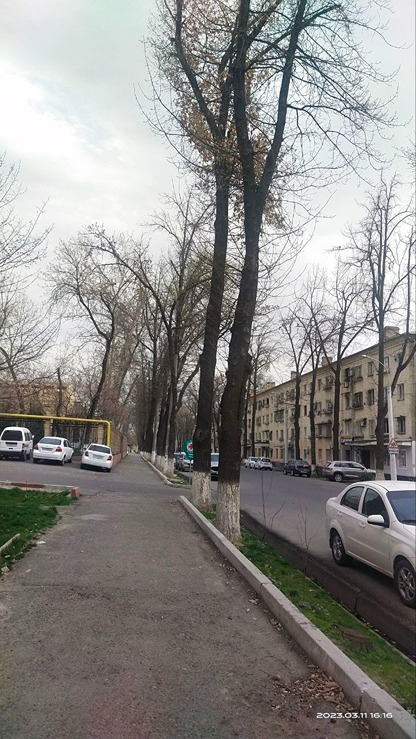car: (323, 483, 416, 599), (321, 455, 376, 486), (34, 427, 71, 463), (0, 419, 34, 456), (81, 443, 117, 476), (285, 459, 309, 484), (256, 455, 276, 476)
tree: (220, 1, 366, 533), (150, 3, 218, 497), (359, 193, 416, 452), (59, 234, 138, 418), (319, 284, 371, 452), (303, 307, 333, 452), (280, 304, 311, 442)
